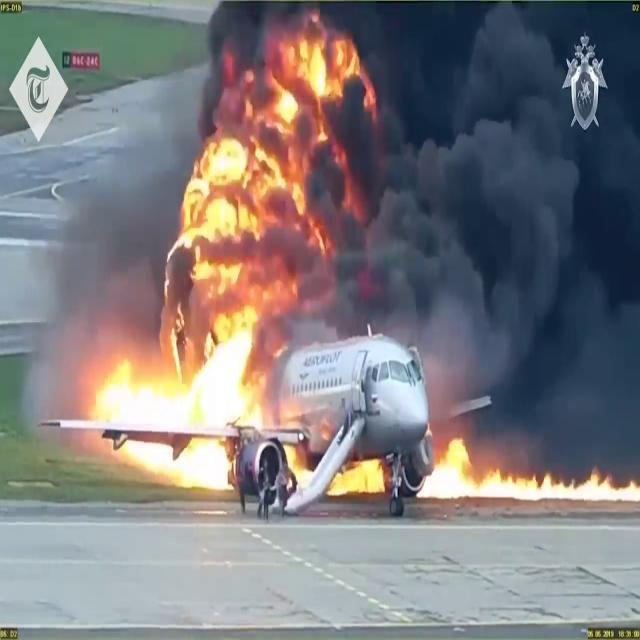Fire: (172, 29, 327, 326), (69, 348, 267, 510), (427, 427, 640, 505)
Smoke: (313, 3, 640, 339), (28, 110, 188, 388)
